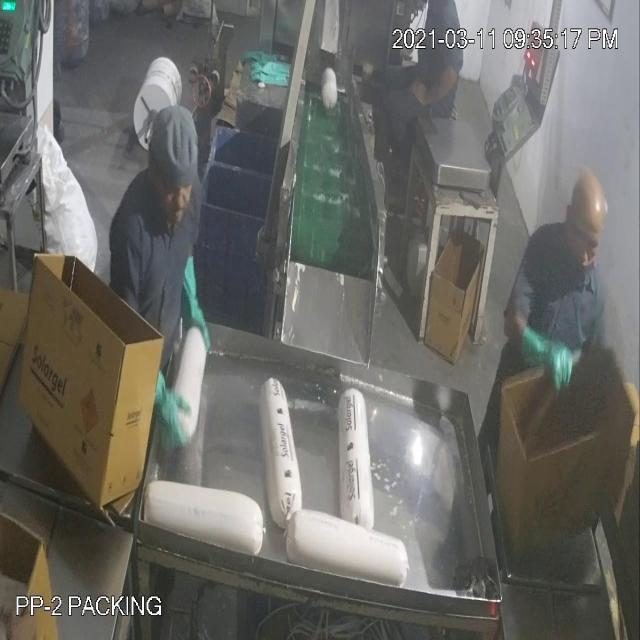gloves: (511, 324, 576, 398), (178, 245, 212, 363)
no-gloves: (408, 59, 460, 113)
